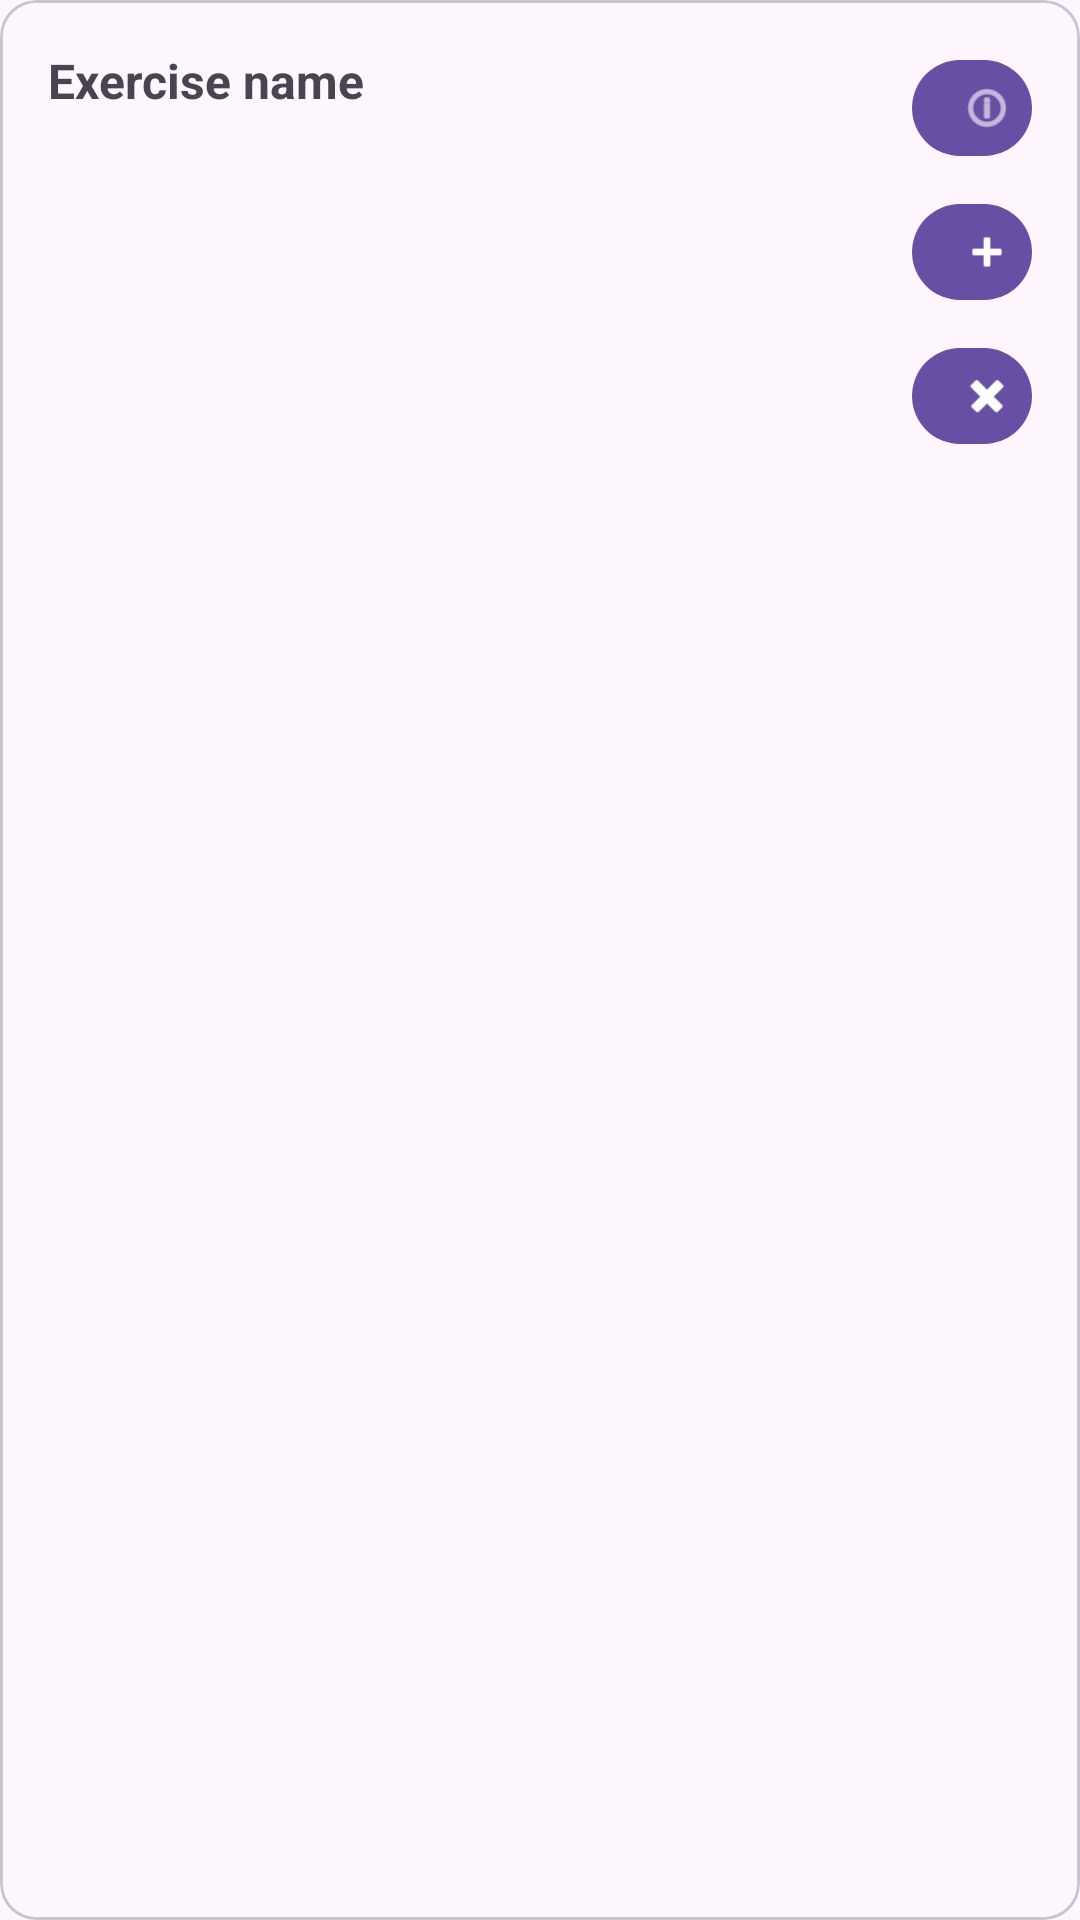

Point at icon controls on the screen. Image size 1080w x 1920h, points as point (x, y).
add: point (972, 252)
delete: point (972, 396)
info details: point (972, 108)
